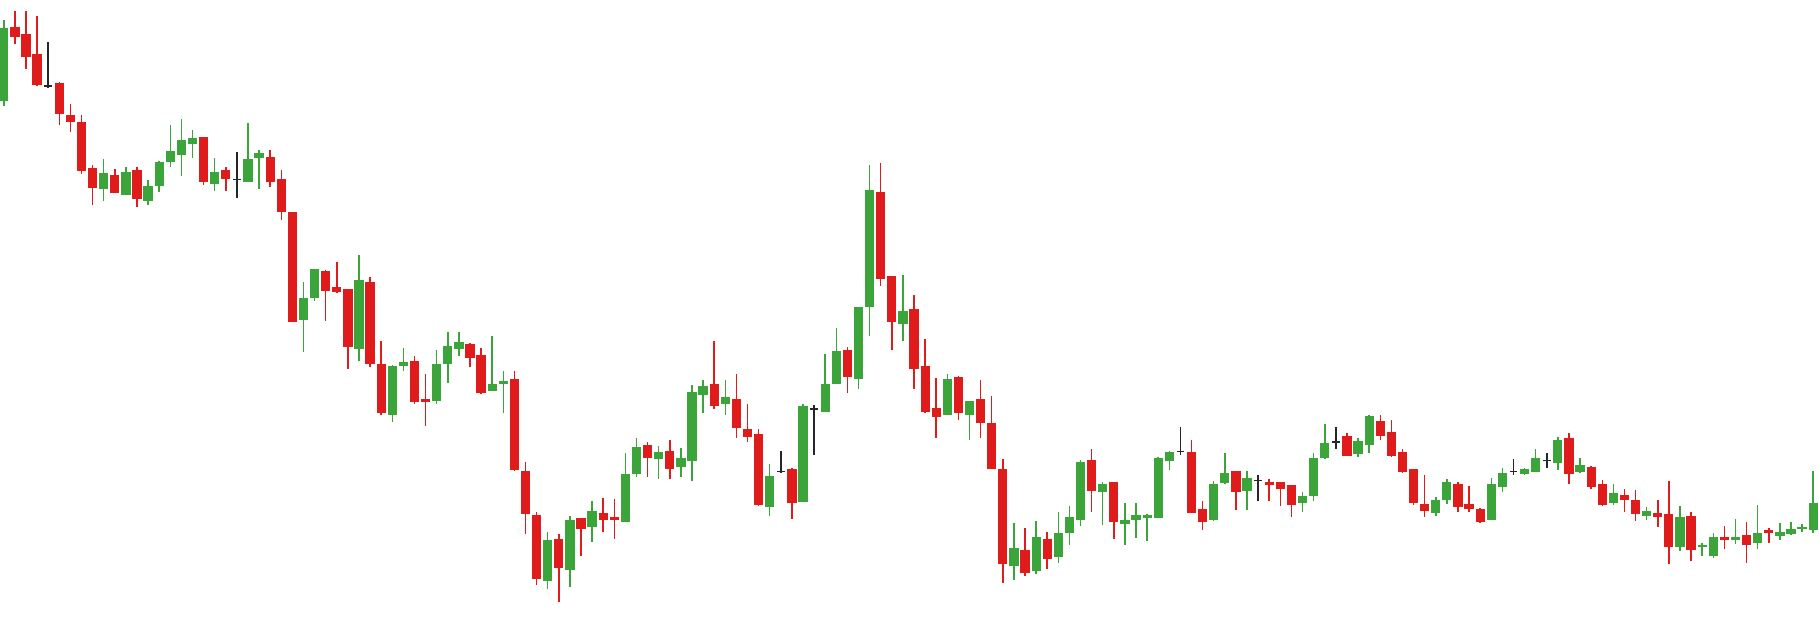sell: (1173, 421, 1351, 479)
